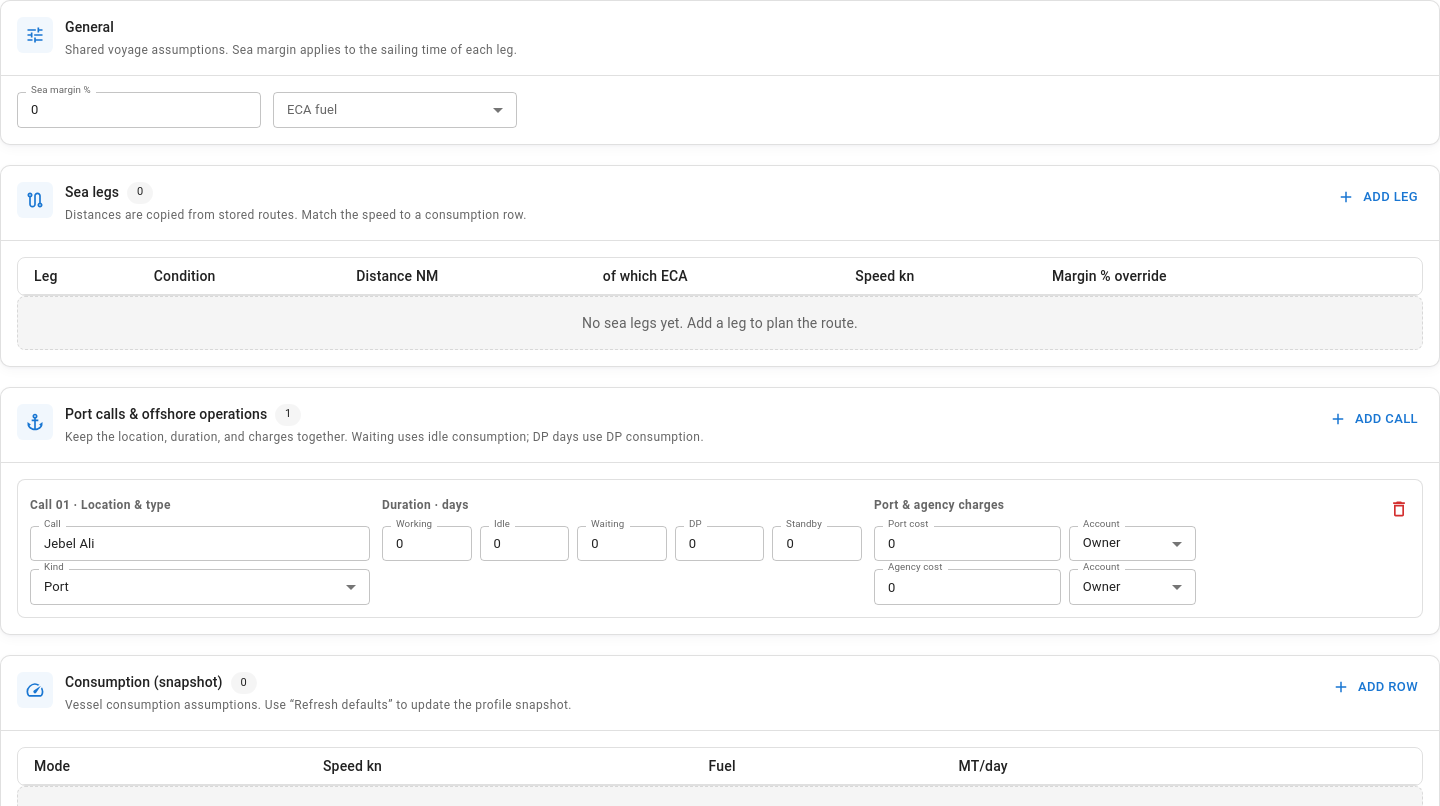
Test: ScenarioInputsEditor decimal fields › can be cleared completely, stores 0 and shows it again on blur
Click the field labelled "Idle" at [524, 544], box [480,526,569,561]
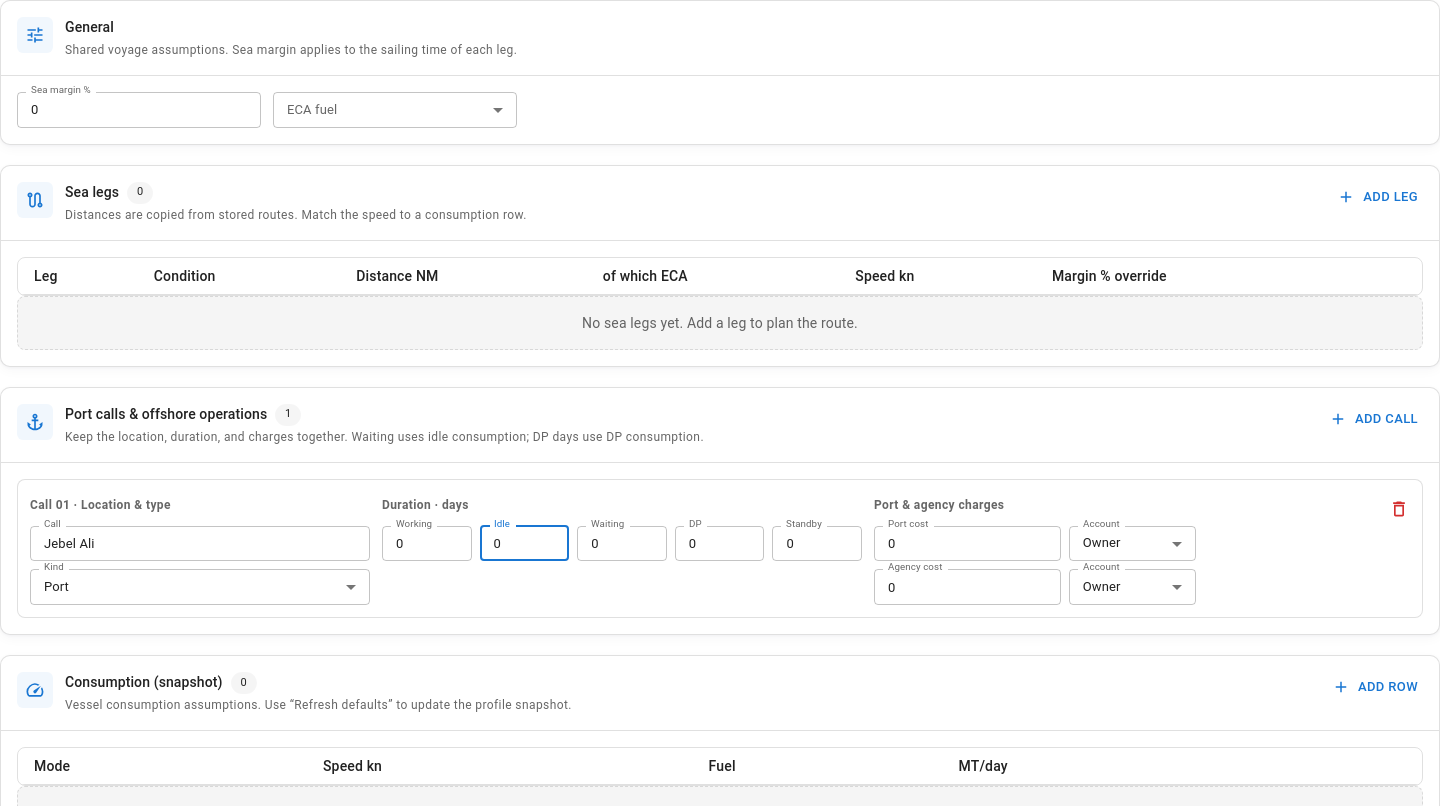
Type keys "2.5"
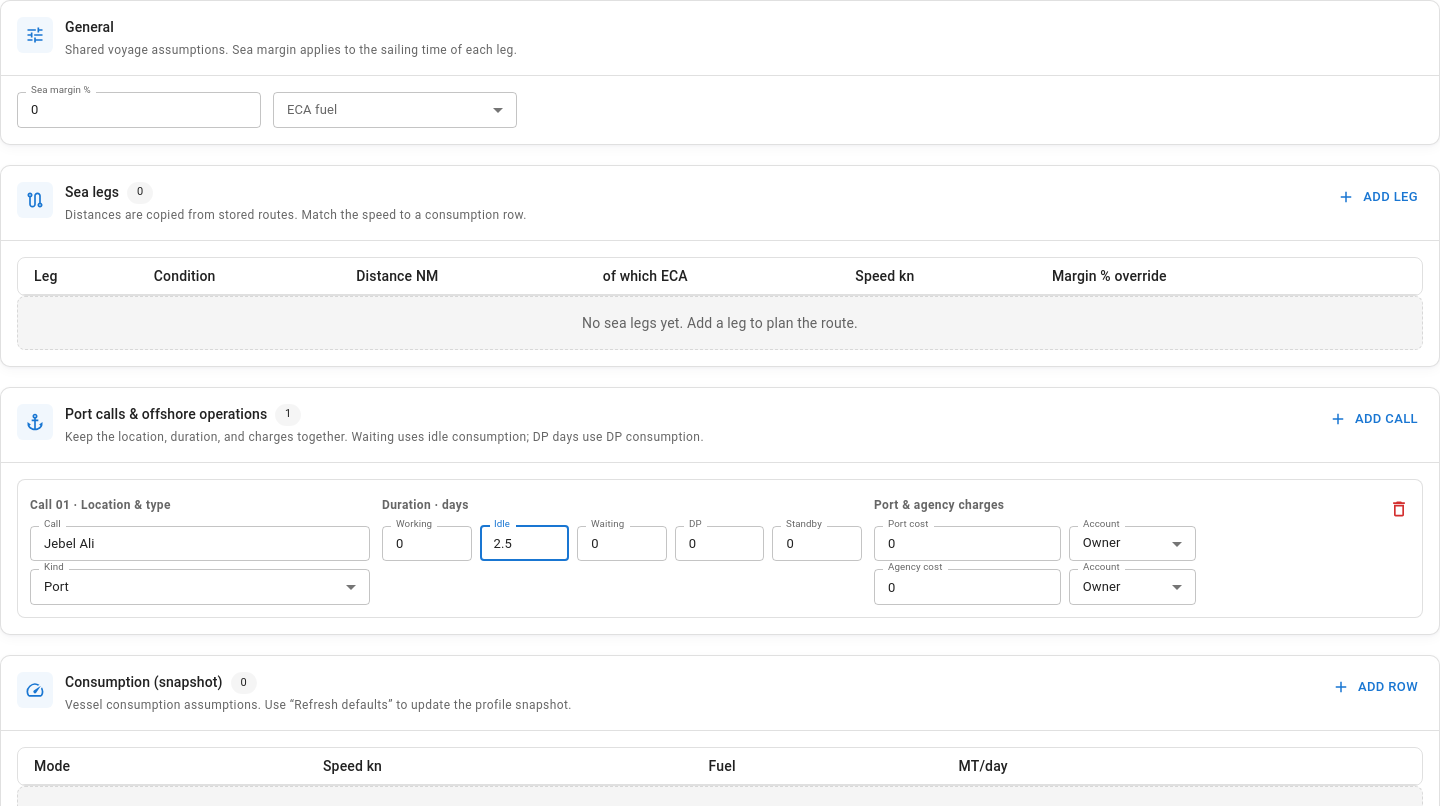
expect the field labelled "Idle" holds "2.5": met
Clear the field labelled "Idle" at [524, 544], box [480,526,569,561]
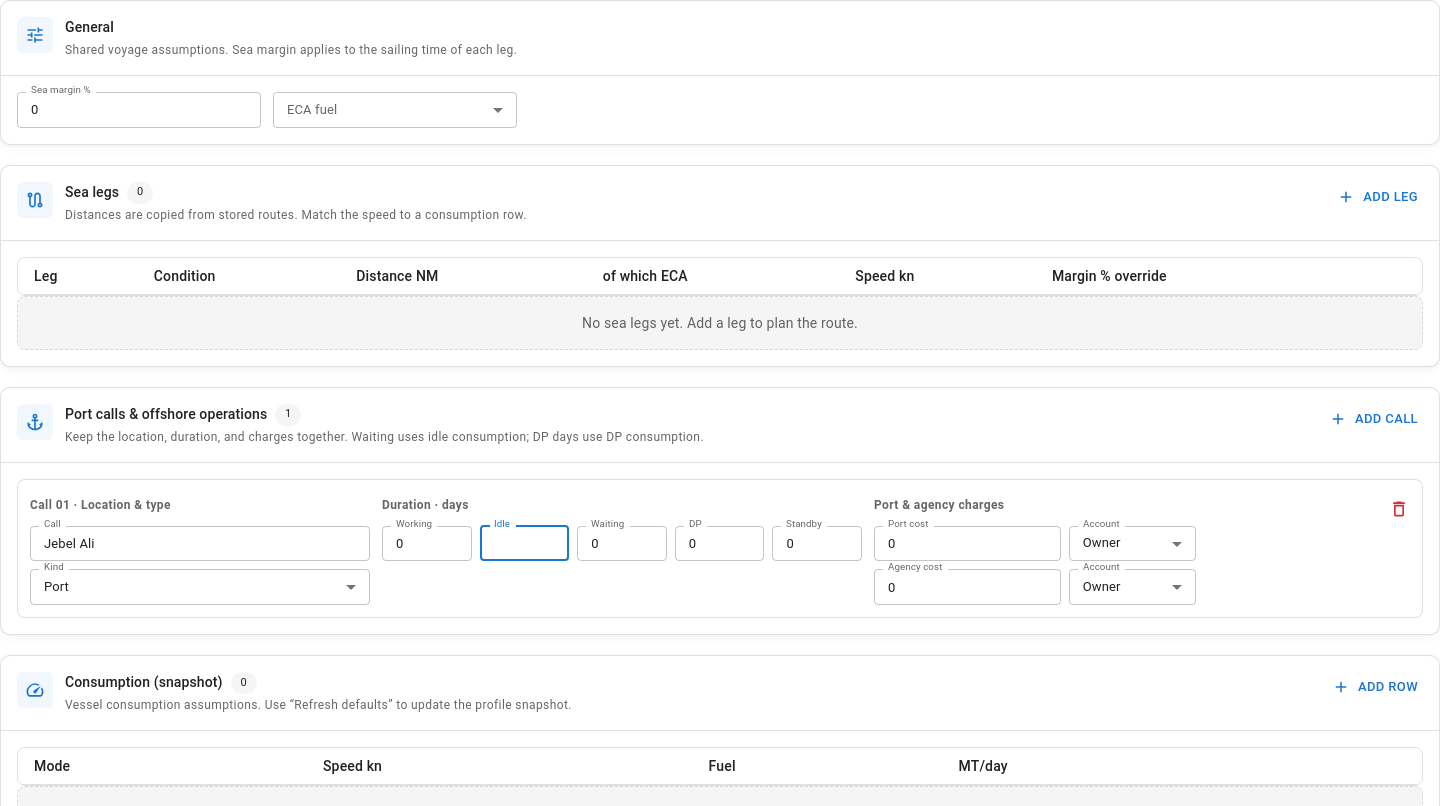
Press Tab
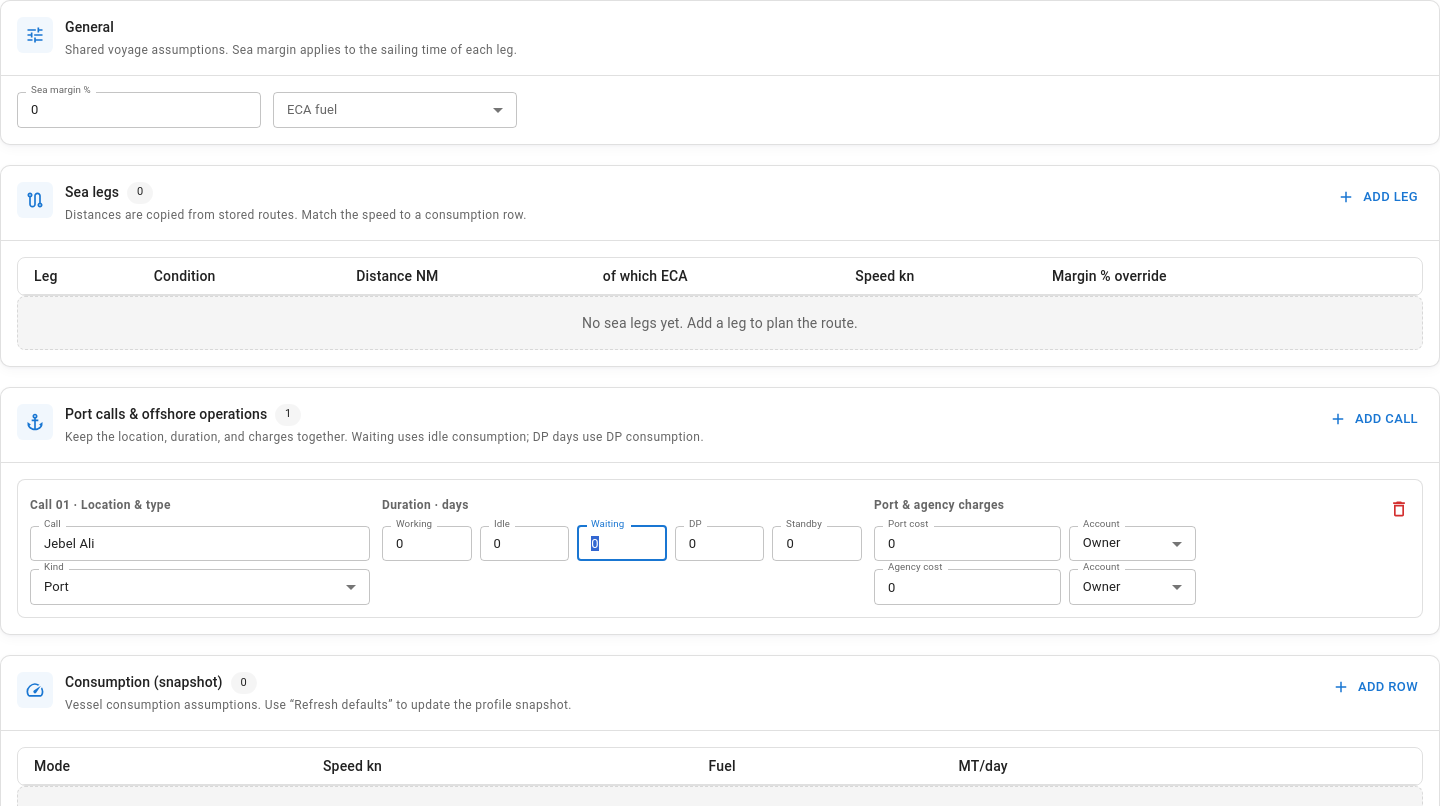
expect the field labelled "Idle" holds "0": met, box [480,526,569,561]
